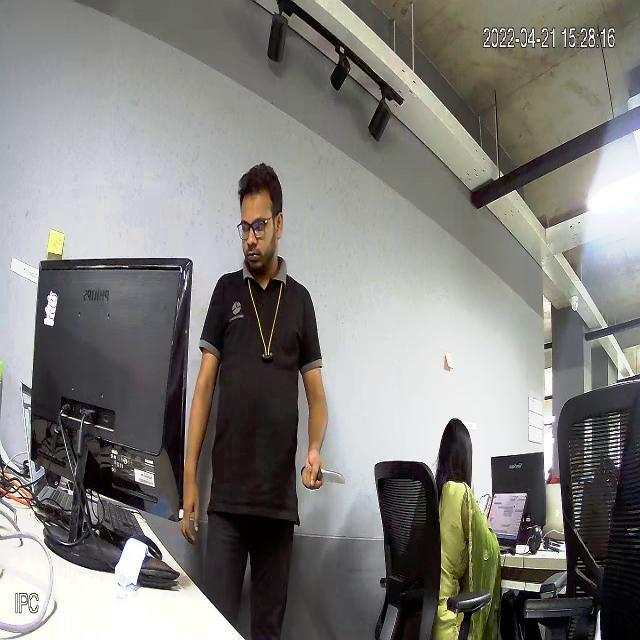Knife: (298, 459, 344, 493)
